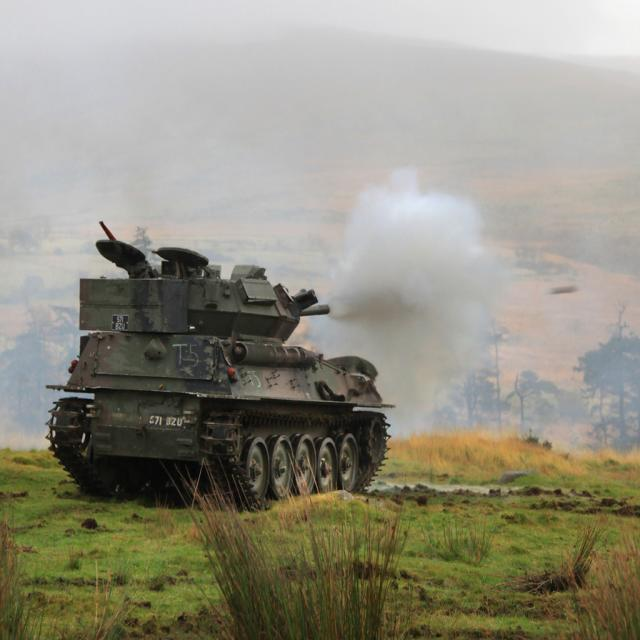tank: (44, 220, 395, 511)
